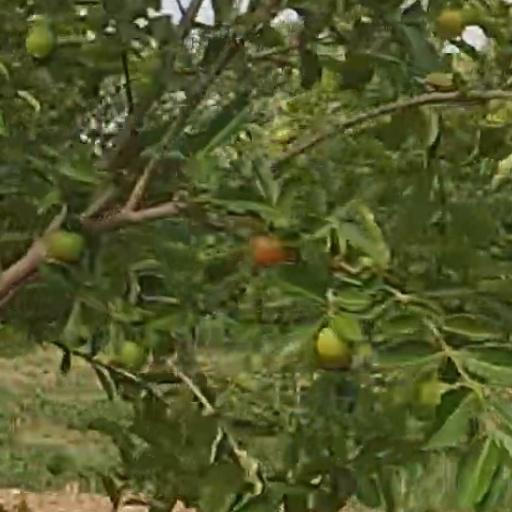acerola_verde: (316, 331, 350, 366), (47, 232, 83, 263)
acerola_vermelha: (248, 236, 291, 266)
